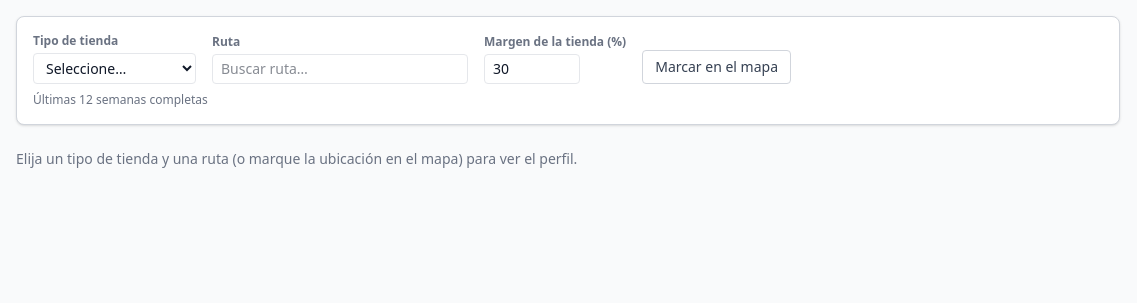
Scenario: TabProspecto › zero peers says "Sin pares suficientes" and never shows $0
The width and height of the screenshot is (1137, 303).
Select "Supermercado (12)" in the dropdown labelled "Tipo de tienda". click: (114, 68)
box: 33,53 -> 196,84
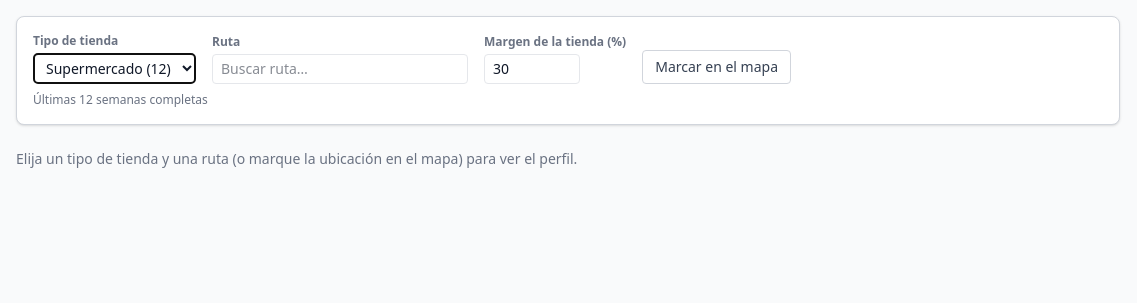
Click the field labelled "ruta". click: (340, 69)
box: 212,54 -> 468,84
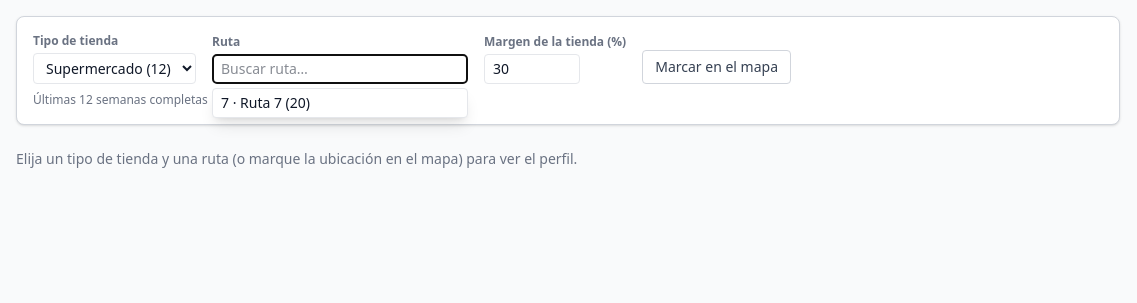
Click the button "7 · Ruta 7 (20)". click: (340, 103)
box: 213,89 -> 467,117
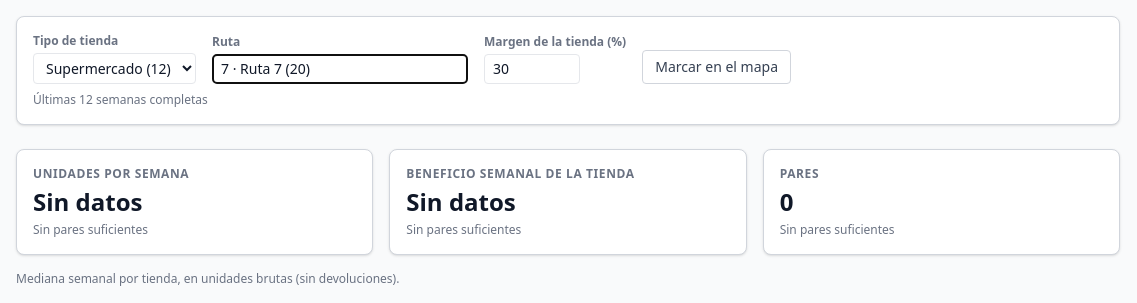
Now the text "Sin pares suficientes" below "Unidades por semana" is shown, box 33,221 -> 148,238
